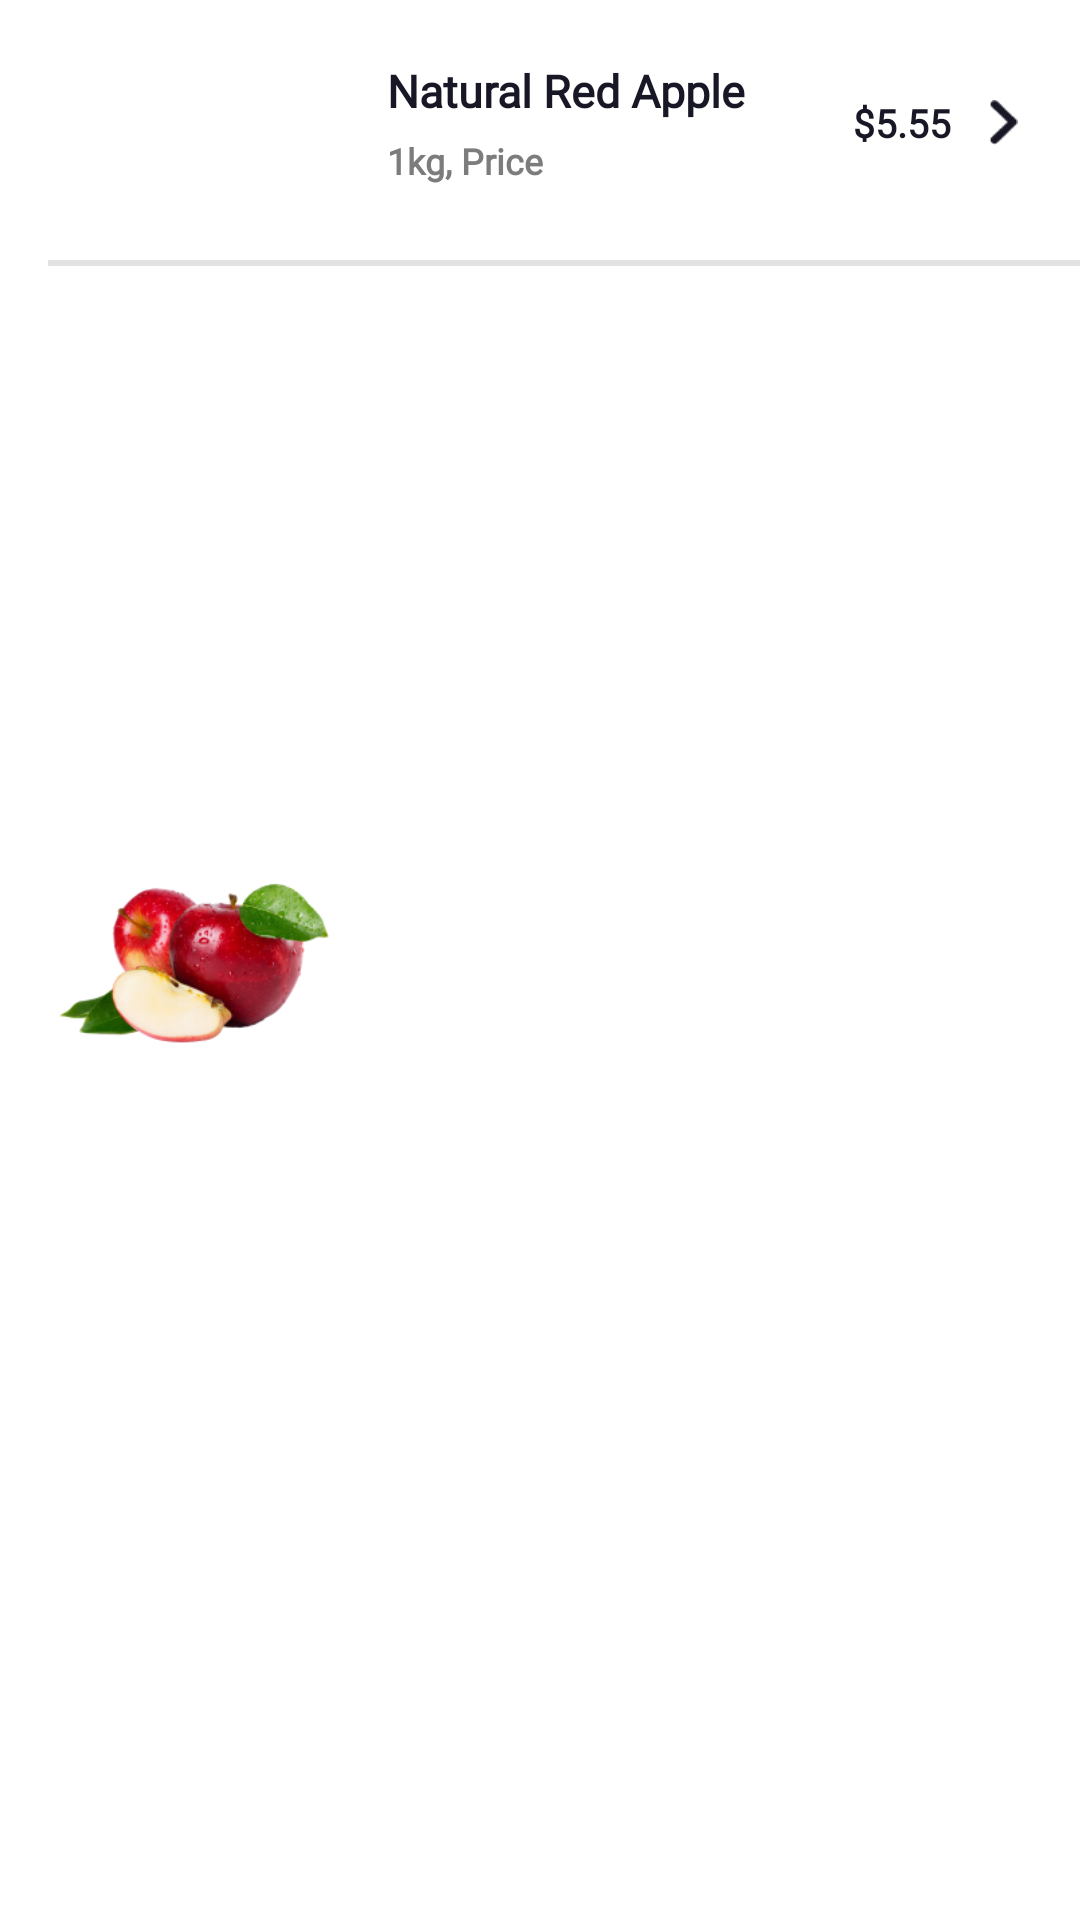

Icons on this 1080*1920 Android screen, each with the point to tap as point (x, y):
apple: point (194, 963)
right arrow: point (1004, 122)
